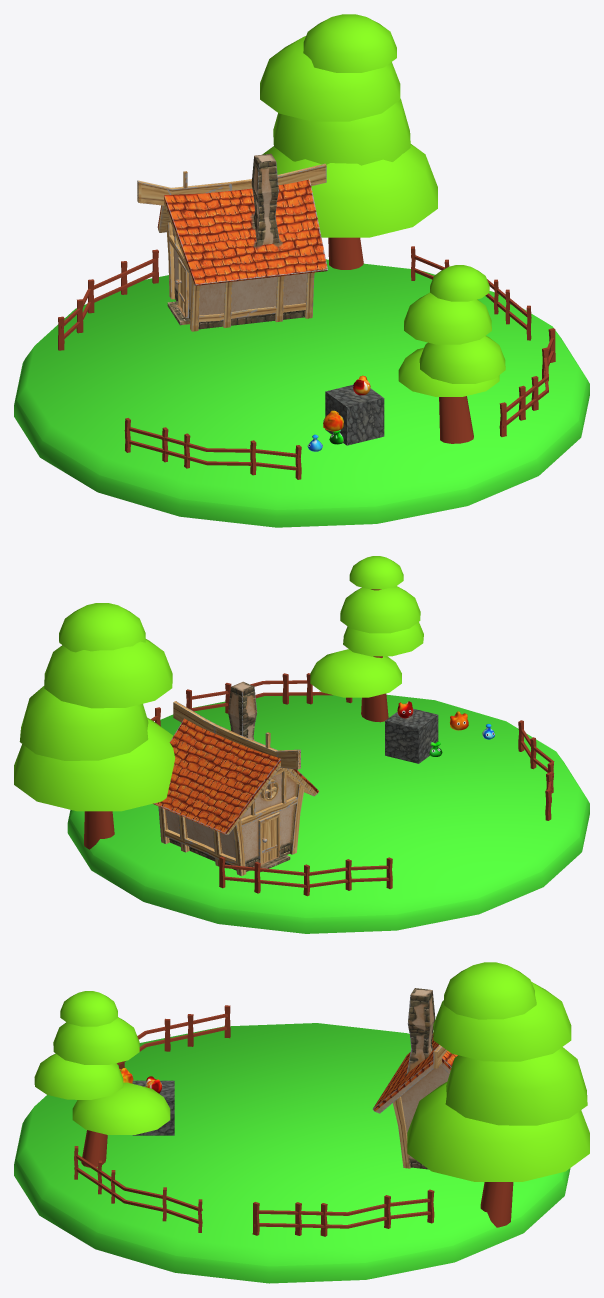
File: rezaruto house.FBX
3 views of the same model, one above another, from view 1: azimuth 30°, elevation 25°; view 2: azimuth 150°, elevation 25°; view 3: azimuth 270°, elevation 25° (orthographic). The views are drawn at different scales.
Visible parts, largest first — view 1: zimenn, wood, house, saku, Box019; view 2: zimenn, wood, house, saku, Box019; view 3: zimenn, wood, saku, house, Box019.
Boxes of the visible parts, x1,y1,x2,y2 form: zimenn: (14, 259, 589, 527); wood: (260, 14, 505, 396); house: (137, 153, 327, 331); saku: (58, 237, 555, 479); Box019: (325, 385, 384, 445); zimenn: (67, 691, 589, 933); wood: (14, 556, 423, 811); house: (152, 681, 318, 875); saku: (84, 589, 554, 896); Box019: (385, 708, 438, 763); zimenn: (14, 1023, 570, 1283); wood: (34, 962, 589, 1181); saku: (74, 1005, 513, 1236); house: (372, 988, 457, 1169); Box019: (132, 1080, 174, 1135).
Bounding box in the file's own units: 512 × 271 × 528.
